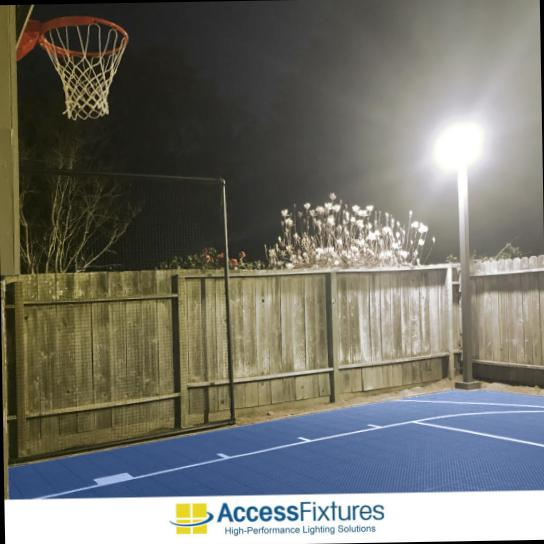basketball-hoop: (36, 10, 133, 122)
